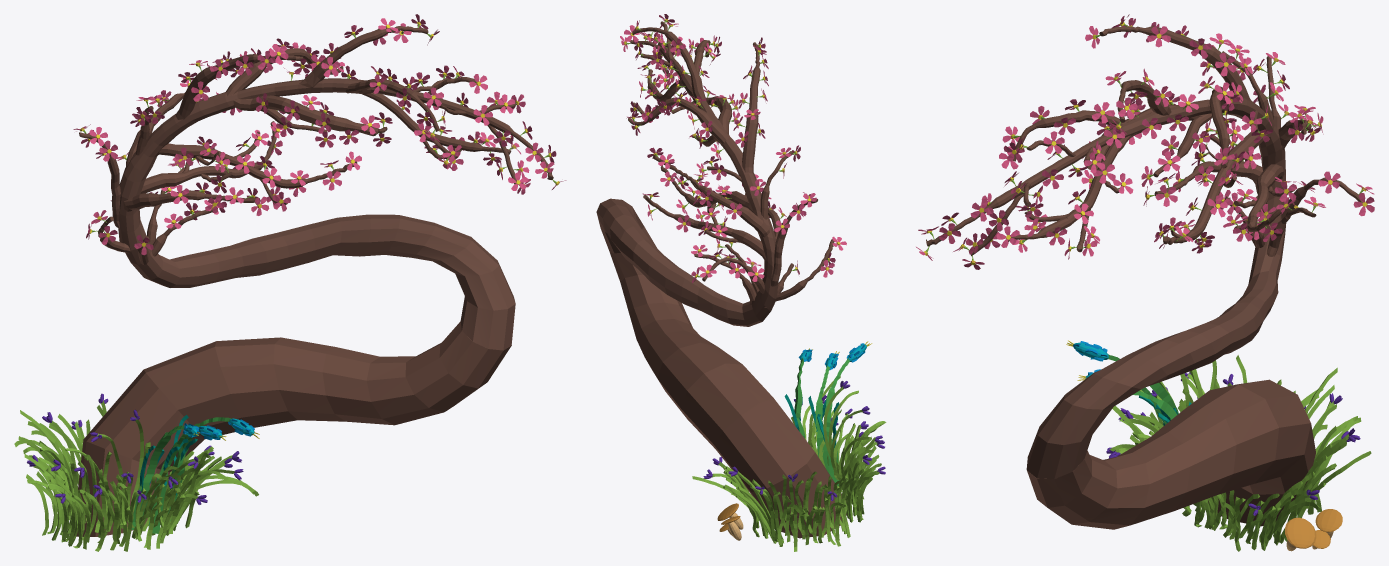
The model's file is modelDraco.gltf.
3 views of the same model, side by side, from view 1: azimuth 30°, elevation 25°; view 2: azimuth 150°, elevation 25°; view 3: azimuth 270°, elevation 25° (orthographic). The views are drawn at different scales.
Visible parts, largest first — view 1: node_MeshObject-1771634752-PolyPaper20, node_MeshObject2004612480-PolyPaper2, node_MeshObject-1099037568-PolyPaper20, node_MeshObject627098112-PolyPaper20, node_MeshObject1049126464-PolyPaper9, node_MeshObject1263000448-PolyPaper7, node_MeshObject-1144994048-PolyPaper9, node_MeshObject-1689680640-PolyPaper9, node_MeshObject-1883355392-PolyPaper9, node_MeshObject1166785856-PolyPaper7, node_MeshObject108378048-PolyPaper9, node_MeshObject1935798336-PolyPaper2 (+5 smaller); view 2: node_MeshObject-1771634752-PolyPaper20, node_MeshObject2004612480-PolyPaper2, node_MeshObject-1144994048-PolyPaper9, node_MeshObject627098112-PolyPaper20, node_MeshObject1049126464-PolyPaper9, node_MeshObject-708879424-PolyPaper2, node_MeshObject1263000448-PolyPaper7, node_MeshObject1935798336-PolyPaper2, node_MeshObject1166785856-PolyPaper7, node_MeshObject1145818176-PolyPaper9, node_MeshObject-1099037568-PolyPaper20, node_MeshObject-1689680640-PolyPaper9 (+5 smaller); view 3: node_MeshObject-1771634752-PolyPaper20, node_MeshObject2004612480-PolyPaper2, node_MeshObject-1144994048-PolyPaper9, node_MeshObject627098112-PolyPaper20, node_MeshObject1166785856-PolyPaper7, node_MeshObject-1099037568-PolyPaper20, node_MeshObject-708879424-PolyPaper2, node_MeshObject1263000448-PolyPaper7, node_MeshObject108378048-PolyPaper9, node_MeshObject1836625344-PolyPaper7, node_MeshObject-1883355392-PolyPaper9, node_MeshObject1145818176-PolyPaper9 (+5 smaller).
Part boxes in pixels (box(x1,y1,x2,y2)): node_MeshObject-1771634752-PolyPaper20: box(76, 91, 553, 536); node_MeshObject2004612480-PolyPaper2: box(23, 78, 515, 533); node_MeshObject-1099037568-PolyPaper20: box(88, 38, 550, 265); node_MeshObject627098112-PolyPaper20: box(123, 23, 549, 214); node_MeshObject1049126464-PolyPaper9: box(40, 54, 303, 546); node_MeshObject1263000448-PolyPaper7: box(86, 19, 513, 239); node_MeshObject-1144994048-PolyPaper9: box(27, 45, 489, 546); node_MeshObject-1689680640-PolyPaper9: box(81, 33, 551, 548); node_MeshObject-1883355392-PolyPaper9: box(95, 14, 554, 256); node_MeshObject1166785856-PolyPaper7: box(91, 25, 511, 244); node_MeshObject108378048-PolyPaper9: box(79, 26, 529, 237); node_MeshObject1935798336-PolyPaper2: box(24, 65, 533, 540); node_MeshObject-1771634752-PolyPaper20: box(610, 42, 846, 538); node_MeshObject2004612480-PolyPaper2: box(596, 41, 886, 543); node_MeshObject-1144994048-PolyPaper9: box(641, 52, 849, 543); node_MeshObject627098112-PolyPaper20: box(621, 19, 791, 307); node_MeshObject1049126464-PolyPaper9: box(679, 42, 883, 522); node_MeshObject-708879424-PolyPaper2: box(624, 25, 882, 544); node_MeshObject1263000448-PolyPaper7: box(634, 29, 833, 278); node_MeshObject1935798336-PolyPaper2: box(620, 36, 884, 551); node_MeshObject1166785856-PolyPaper7: box(630, 14, 843, 274); node_MeshObject1145818176-PolyPaper9: box(631, 28, 834, 301); node_MeshObject-1099037568-PolyPaper20: box(633, 21, 831, 293); node_MeshObject-1689680640-PolyPaper9: box(636, 36, 884, 492); node_MeshObject-1771634752-PolyPaper20: box(926, 146, 1315, 529); node_MeshObject2004612480-PolyPaper2: box(1026, 90, 1353, 548); node_MeshObject-1144994048-PolyPaper9: box(1032, 24, 1371, 548); node_MeshObject627098112-PolyPaper20: box(951, 26, 1362, 249); node_MeshObject1166785856-PolyPaper7: box(1006, 33, 1310, 256); node_MeshObject-1099037568-PolyPaper20: box(948, 18, 1325, 259); node_MeshObject-708879424-PolyPaper2: box(927, 84, 1361, 551); node_MeshObject1263000448-PolyPaper7: box(989, 22, 1323, 252); node_MeshObject108378048-PolyPaper9: box(972, 26, 1324, 253); node_MeshObject1836625344-PolyPaper7: box(939, 24, 1374, 248); node_MeshObject-1883355392-PolyPaper9: box(918, 14, 1317, 256); node_MeshObject1145818176-PolyPaper9: box(916, 21, 1340, 269).
Bounding box in the file's own units: 0.9682 × 1.21 × 0.8691.
